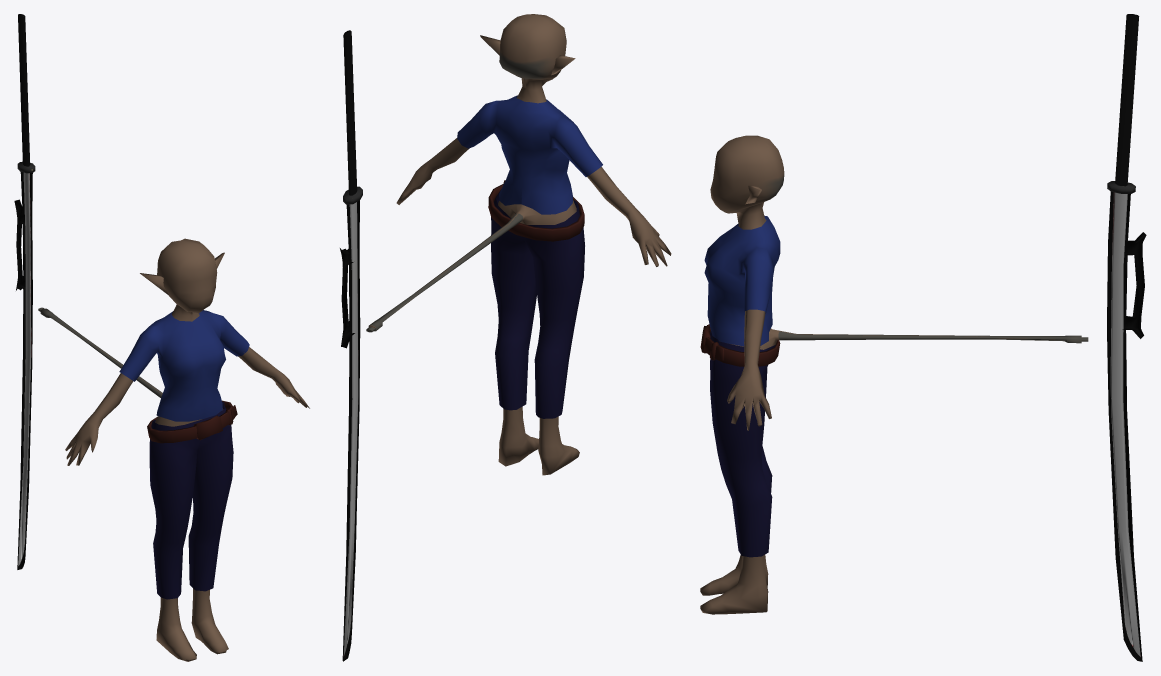
File: tabitha.glb
The picture shows the model from 3 angles, left to right: view 1: azimuth 30°, elevation 25°; view 2: azimuth 150°, elevation 25°; view 3: azimuth 270°, elevation 25°; orthographic projection. The views are drawn at different scales.
Parts seen in each view (by area): view 1: Pants, Tabatha, Shirt, Sword, Belt; view 2: Pants, Tabatha, Shirt, Sword, Belt; view 3: Tabatha, Sword, Pants, Shirt, Belt.
Part boxes in pixels (box(x1,y1,x2,y2)): Pants: box(149, 401, 233, 599); Tabatha: box(38, 238, 309, 661); Shirt: box(119, 310, 249, 421); Sword: box(14, 14, 35, 569); Belt: box(147, 400, 237, 443); Pants: box(491, 190, 584, 418); Tabatha: box(366, 14, 671, 475); Shirt: box(457, 95, 602, 214); Sword: box(340, 30, 362, 661); Belt: box(488, 180, 584, 241); Tabatha: box(700, 135, 1088, 614); Sword: box(1107, 14, 1146, 661); Pants: box(710, 330, 775, 557); Shirt: box(704, 215, 780, 346); Belt: box(700, 324, 780, 366).
Bounding box in the file's own units: 2.87 × 6.38 × 3.98.
Materials: 7 (4 with a texture image).
